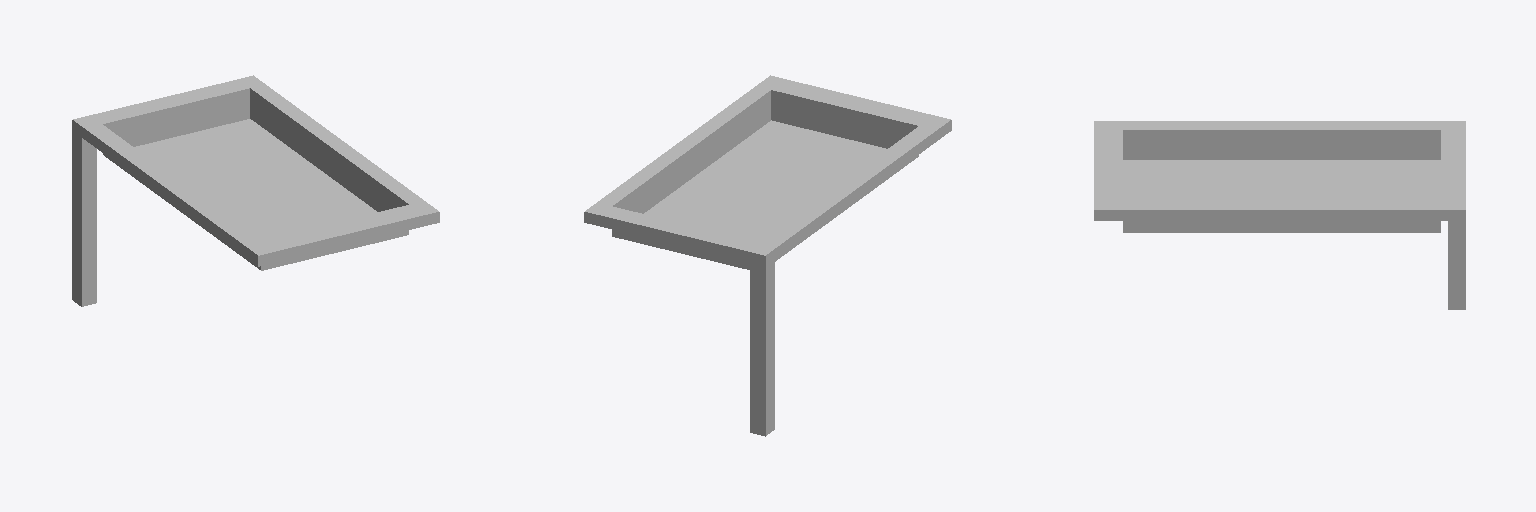
File: Table.obj
3 views of the same model, side by side, from view 1: azimuth 30°, elevation 25°; view 2: azimuth 150°, elevation 25°; view 3: azimuth 270°, elevation 25° (orthographic).
Visible parts, largest first — view 1: Table_Plane.012, TableLeg_Plane.016; view 2: Table_Plane.012, TableLeg_Plane.016; view 3: Table_Plane.012, TableLeg_Plane.016.
Part boxes in pixels (bbox=[...]): Table_Plane.012: bbox=[72, 75, 439, 270]; TableLeg_Plane.016: bbox=[72, 131, 96, 306]; Table_Plane.012: bbox=[584, 75, 951, 269]; TableLeg_Plane.016: bbox=[750, 260, 774, 436]; Table_Plane.012: bbox=[1094, 121, 1465, 232]; TableLeg_Plane.016: bbox=[1448, 221, 1465, 309].
Size of the model in its own units: 397 by 378 by 706.